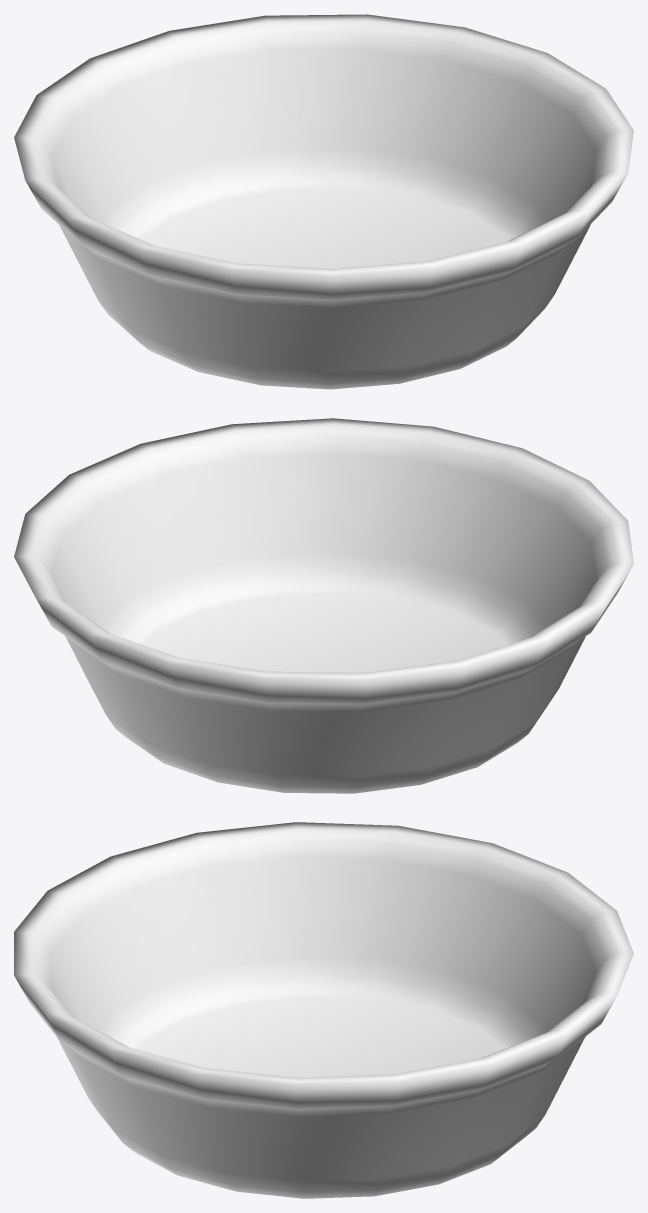
Rendered from mdl_Plate_02.fbx.
3 views of the same model, one above another, from view 1: azimuth 30°, elevation 25°; view 2: azimuth 150°, elevation 25°; view 3: azimuth 270°, elevation 25° (orthographic).
Visible parts, largest first — view 1: Circle.006; view 2: Circle.006; view 3: Circle.006.
Part boxes in pixels (box(x1,y1,x2,y2)): Circle.006: box(14, 14, 633, 389); Circle.006: box(14, 418, 633, 793); Circle.006: box(14, 822, 633, 1198).
Size of the model in its own units: 149 by 42.23 by 149.
